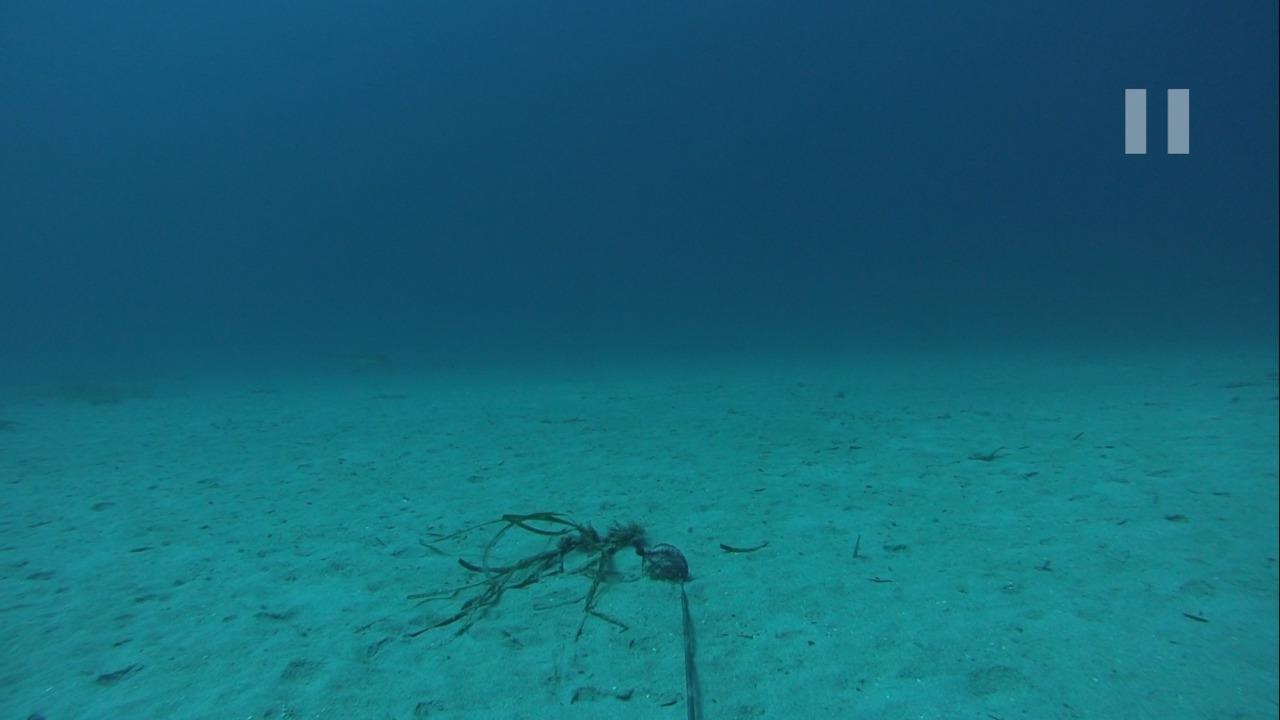myliobatis: (252, 336, 406, 385)
